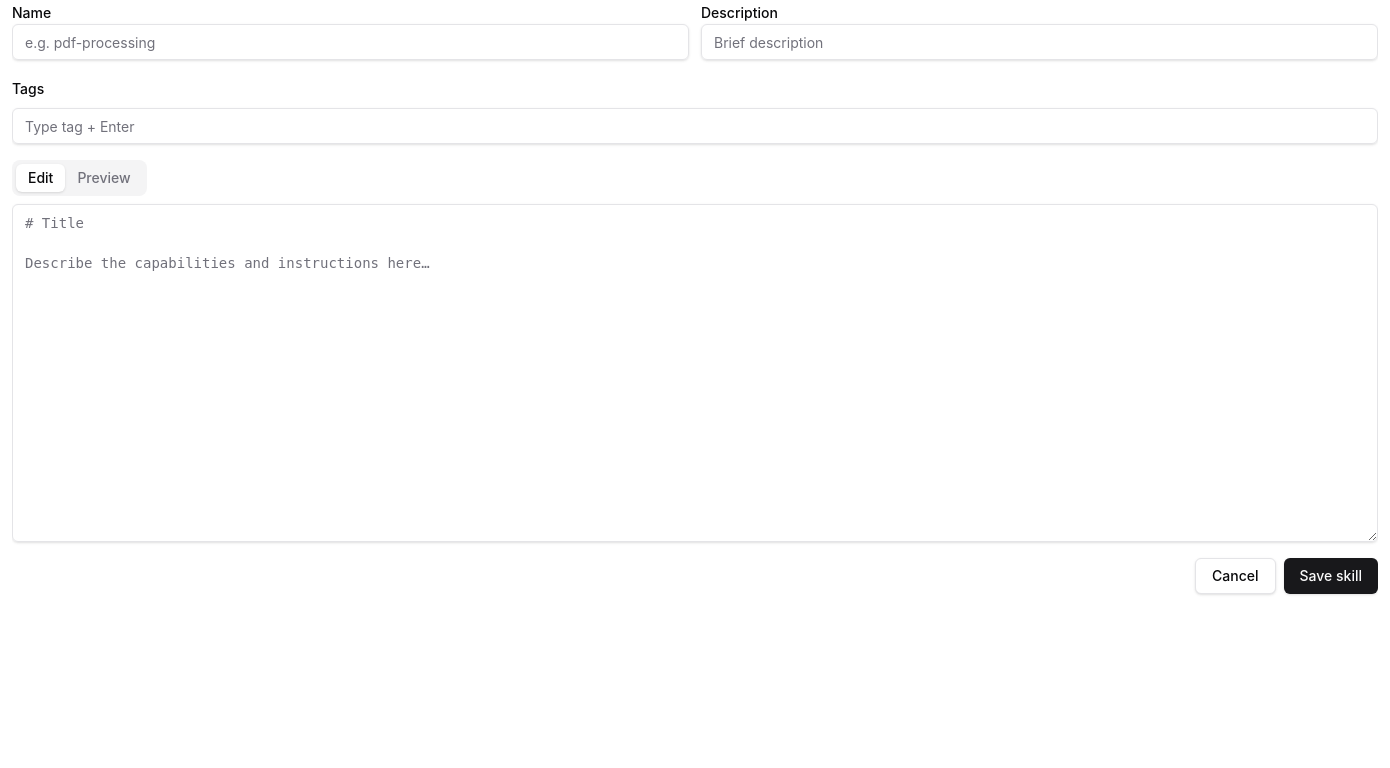
Scenario: SkillEditor › adds tag on Enter key
In the field with placeholder "Type tag + Enter": coordinates (695, 126) x1=12 y1=108 x2=1378 y2=144, type "mytag"
Then press Enter
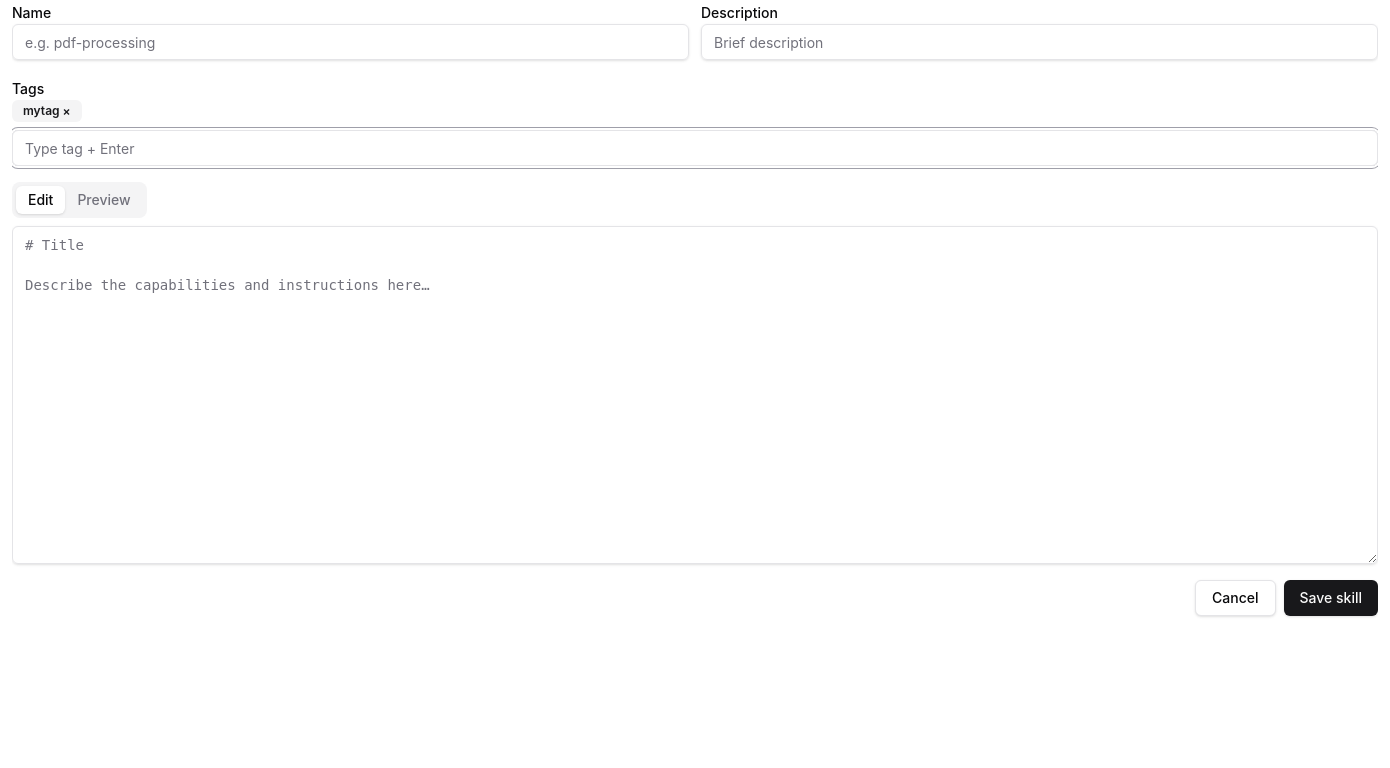
Expected: the text "mytag ×" is shown, x1=12 y1=100 x2=82 y2=122
